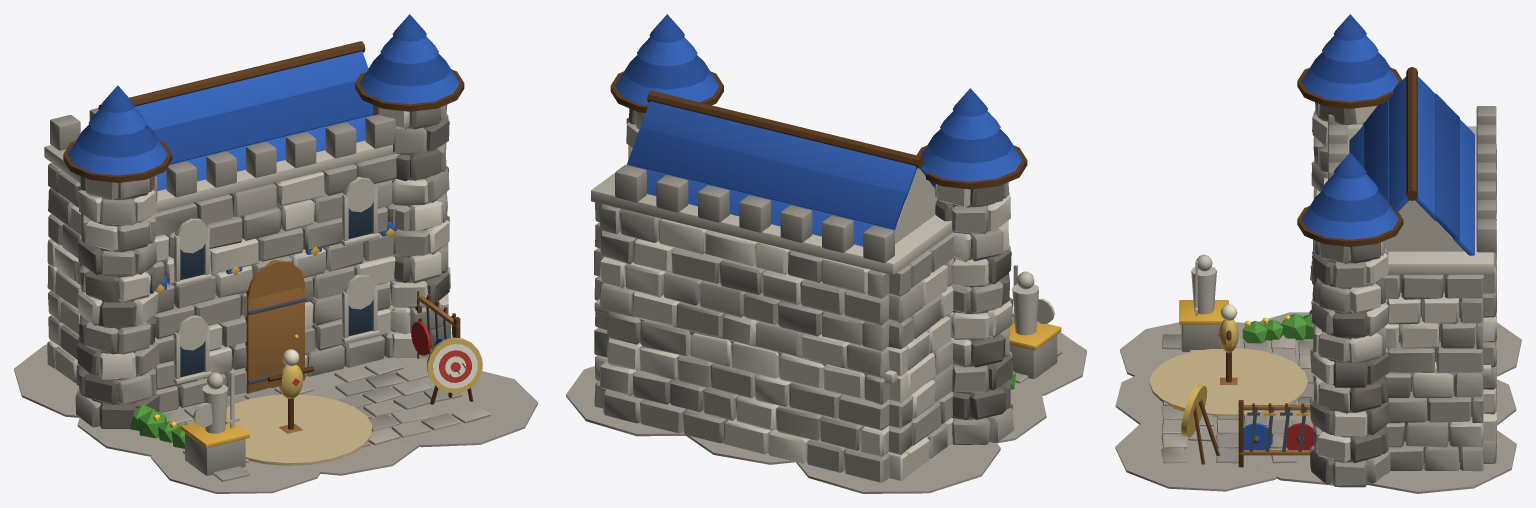
File: koszary_poz17.glb
The picture shows the model from 3 angles, left to right: view 1: azimuth 30°, elevation 25°; view 2: azimuth 150°, elevation 25°; view 3: azimuth 270°, elevation 25°; orthographic projection. The views are drawn at different scales.
Visible parts, largest first — view 1: koszary_poz17; view 2: koszary_poz17; view 3: koszary_poz17.
Part boxes in pixels (x1,y1,x2,y2): koszary_poz17: (14,14,537,493); koszary_poz17: (566,14,1086,493); koszary_poz17: (1115,14,1521,493).
Bounding box in the file's own units: 8.88 × 7.27 × 8.2.
